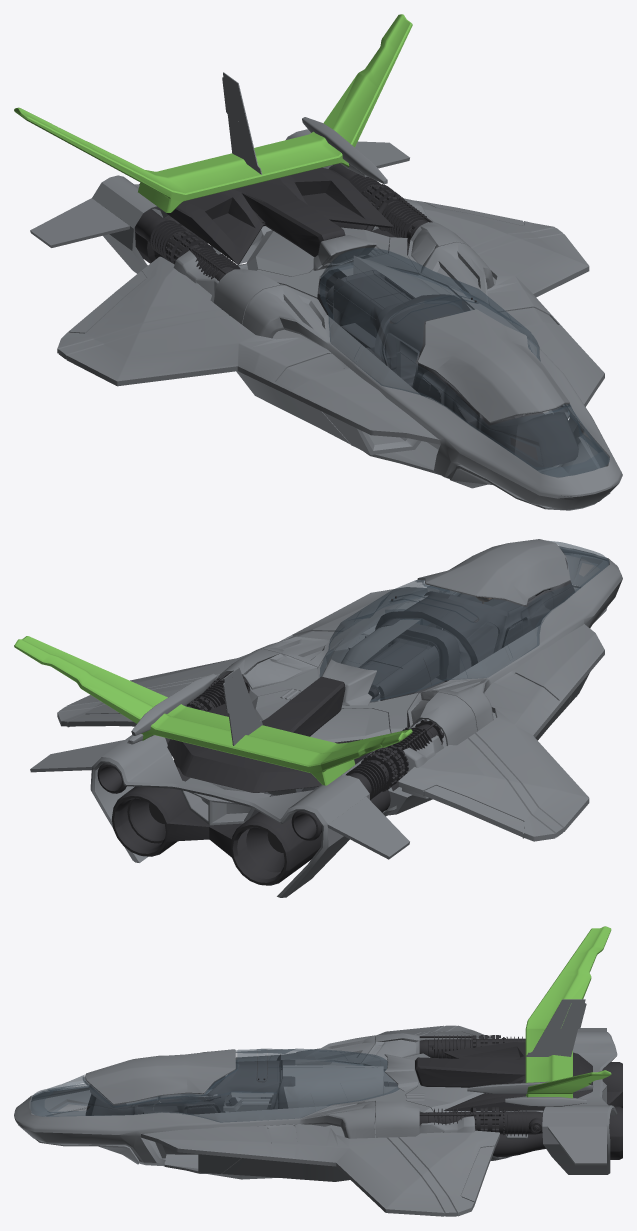
Rendered from Venom.b386cb202a.glb.
The picture shows the model from 3 angles, top to bottom: view 1: azimuth 30°, elevation 25°; view 2: azimuth 150°, elevation 25°; view 3: azimuth 270°, elevation 25°; orthographic projection. The views are drawn at different scales.
Parts seen in each view (by area): view 1: pCube55, polySurface2, pCylinder13, pCube49, pCube43; view 2: pCube55, pCylinder13, polySurface2, pCube49, pCube43; view 3: pCube55, polySurface2, pCylinder13, pCube43, pCube49.
Boxes of the visible parts, left/top/right/bottom form: pCube55: left=30, top=72, right=622, bottom=510; polySurface2: left=319, top=247, right=609, bottom=477; pCylinder13: left=135, top=163, right=476, bottom=302; pCube49: left=317, top=268, right=578, bottom=469; pCube43: left=14, top=14, right=412, bottom=212; pCube55: left=30, top=539, right=622, bottom=897; pCylinder13: left=97, top=596, right=444, bottom=885; polySurface2: left=319, top=540, right=609, bottom=701; pCube49: left=263, top=558, right=575, bottom=796; pCube43: left=14, top=636, right=412, bottom=785; pCube55: left=14, top=999, right=617, bottom=1216; polySurface2: left=30, top=1048, right=399, bottom=1122; pCylinder13: left=258, top=1035, right=622, bottom=1159; pCube43: left=525, top=926, right=611, bottom=1098; pCube49: left=85, top=1054, right=417, bottom=1115.
Bounding box in the file's own units: 7.03 × 2.67 × 9.67.
